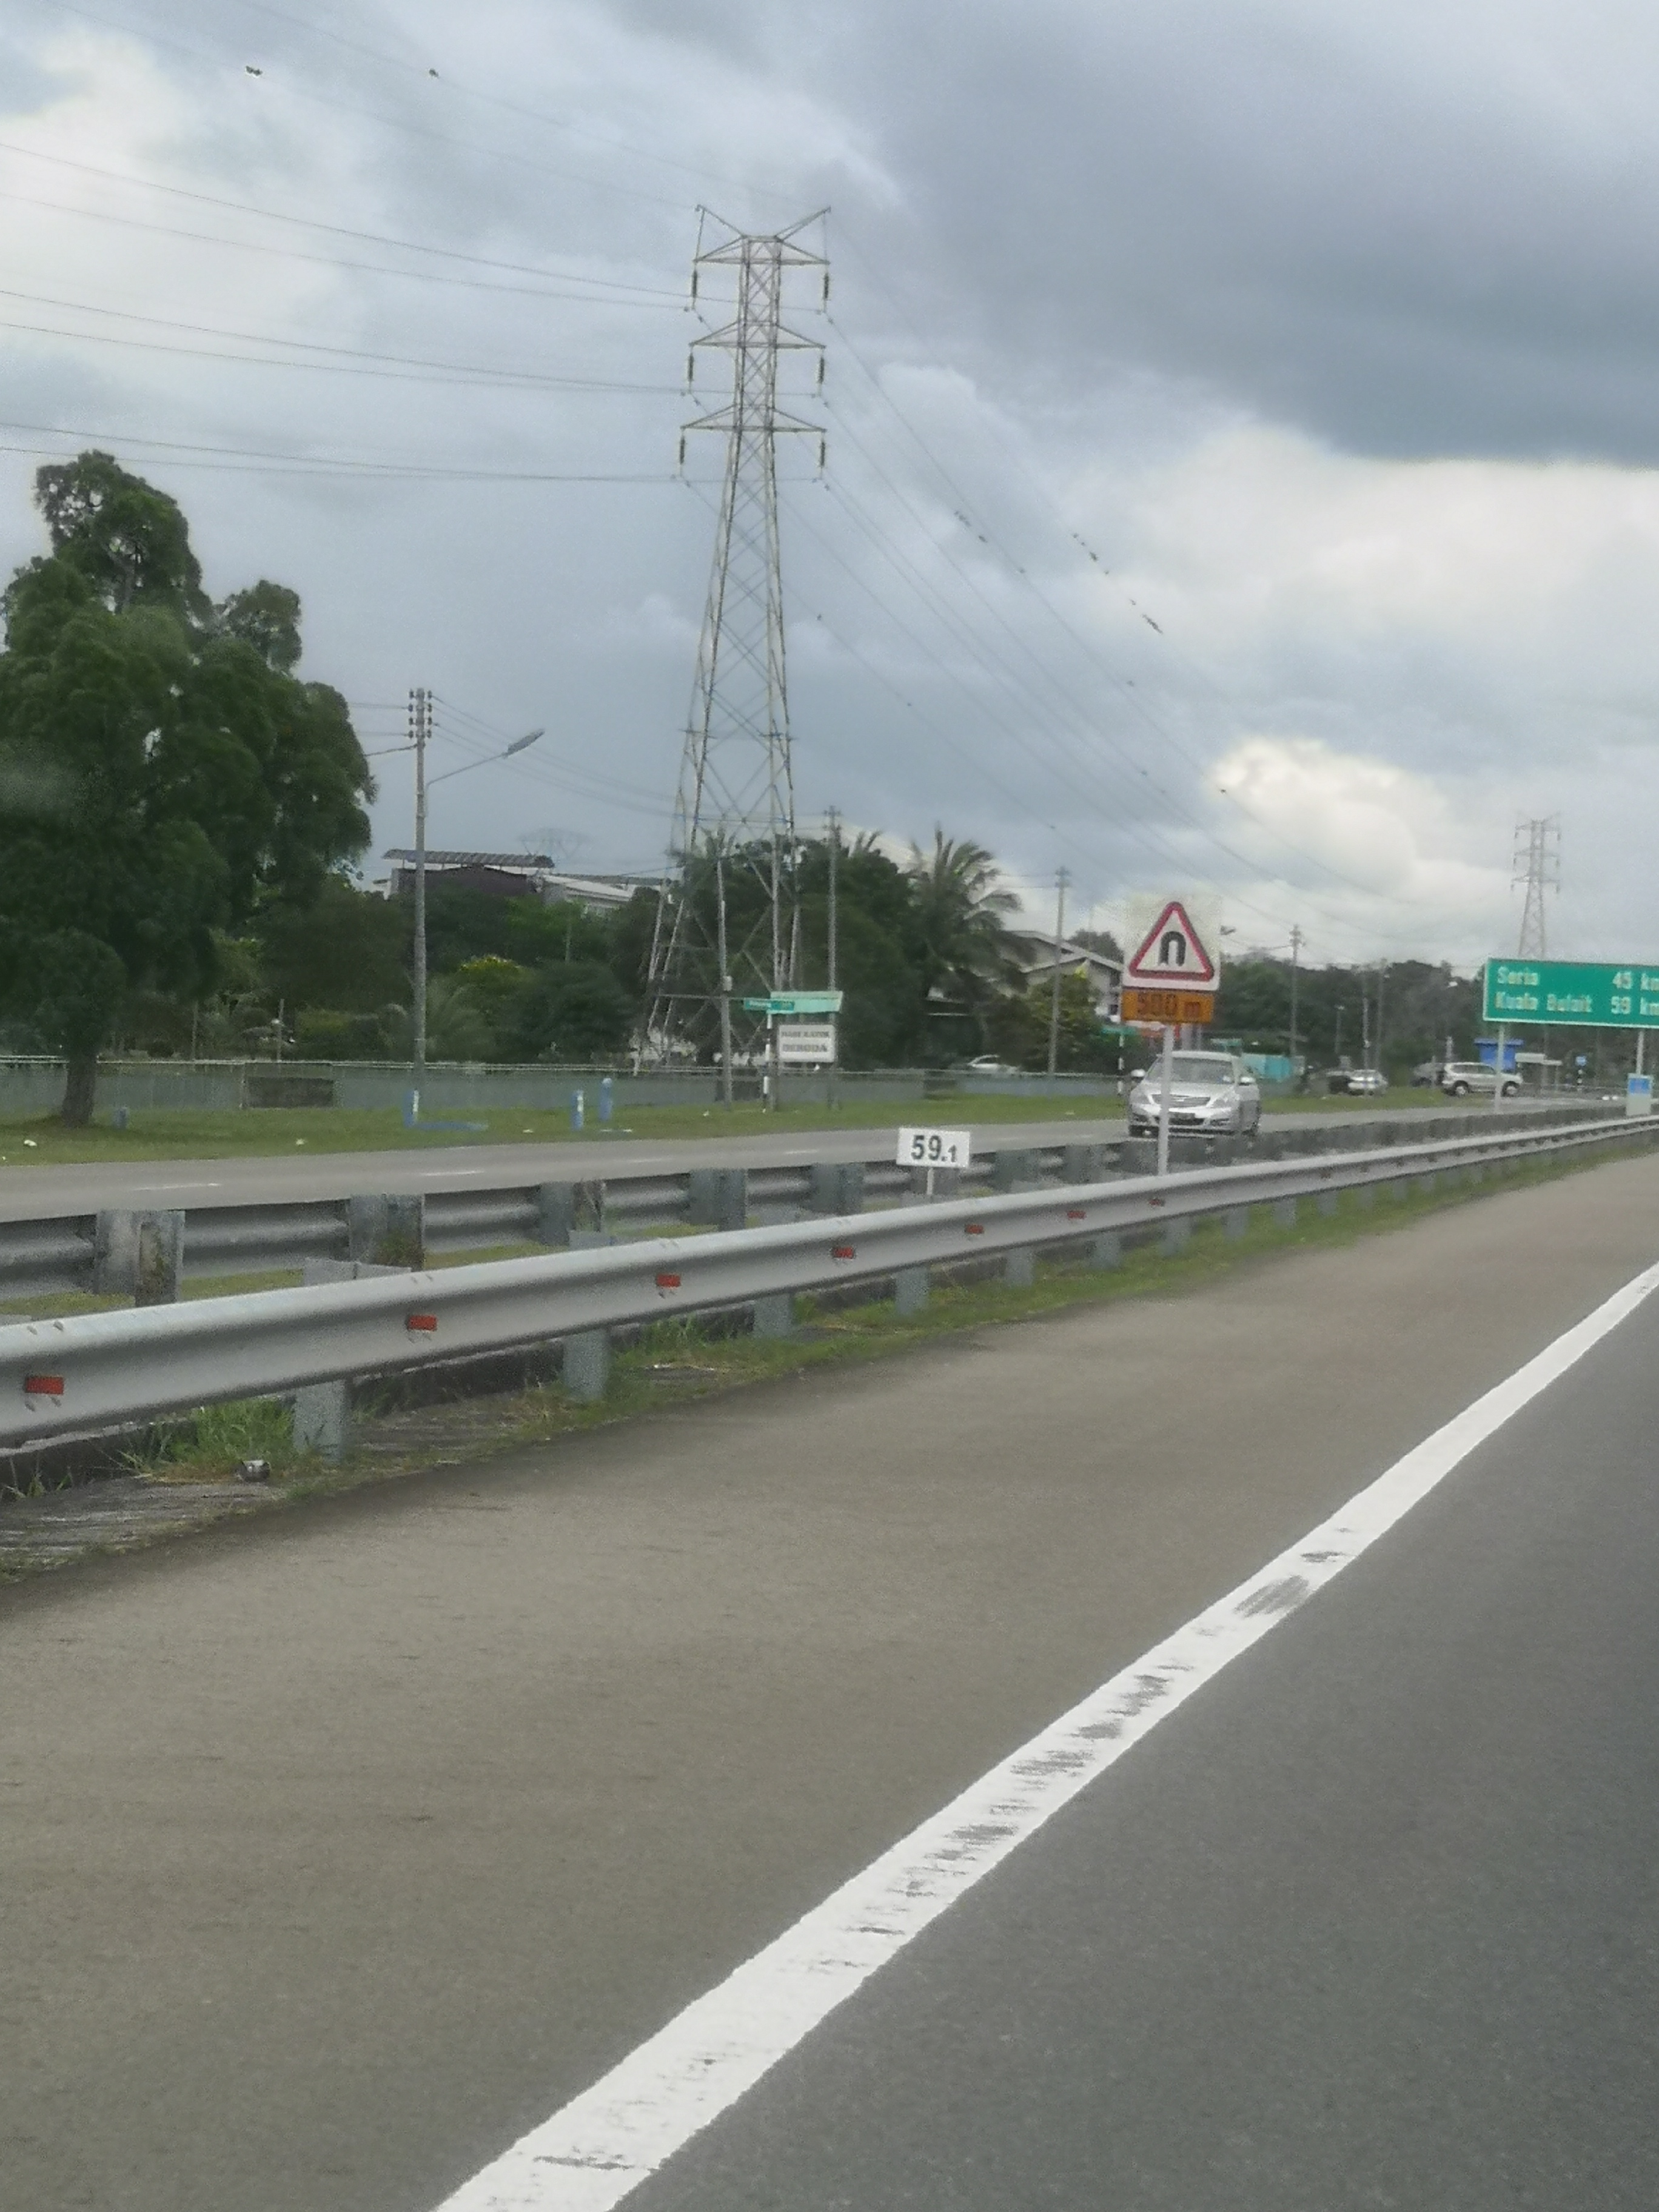U-turn: (1129, 890, 1222, 993)
